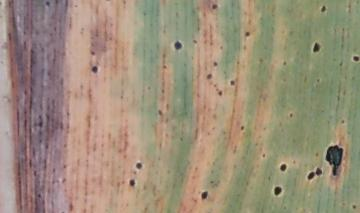tarspot: (325, 146, 342, 177), (172, 39, 185, 51), (311, 40, 322, 54), (126, 177, 136, 187), (272, 185, 282, 195), (306, 170, 315, 181), (315, 167, 324, 177), (90, 65, 100, 73), (319, 3, 327, 13), (201, 191, 209, 201), (279, 163, 287, 172), (243, 29, 251, 38), (228, 79, 237, 87), (350, 55, 360, 62), (88, 49, 96, 57), (135, 161, 143, 169), (287, 112, 295, 120), (191, 37, 199, 45), (210, 3, 219, 10), (216, 90, 225, 97), (260, 149, 267, 158), (314, 75, 321, 84), (161, 62, 168, 70), (337, 59, 344, 67), (43, 1, 52, 7), (156, 107, 162, 116), (238, 124, 245, 131), (281, 60, 288, 67), (206, 74, 213, 80), (313, 150, 319, 157), (35, 192, 42, 198), (341, 118, 346, 126), (351, 203, 357, 209), (212, 61, 218, 67)
